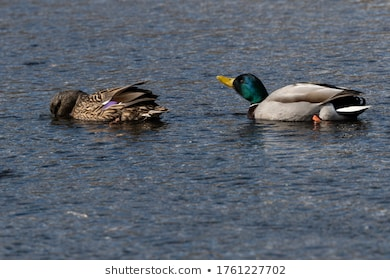duck: (203, 58, 377, 137), (33, 76, 186, 135)
